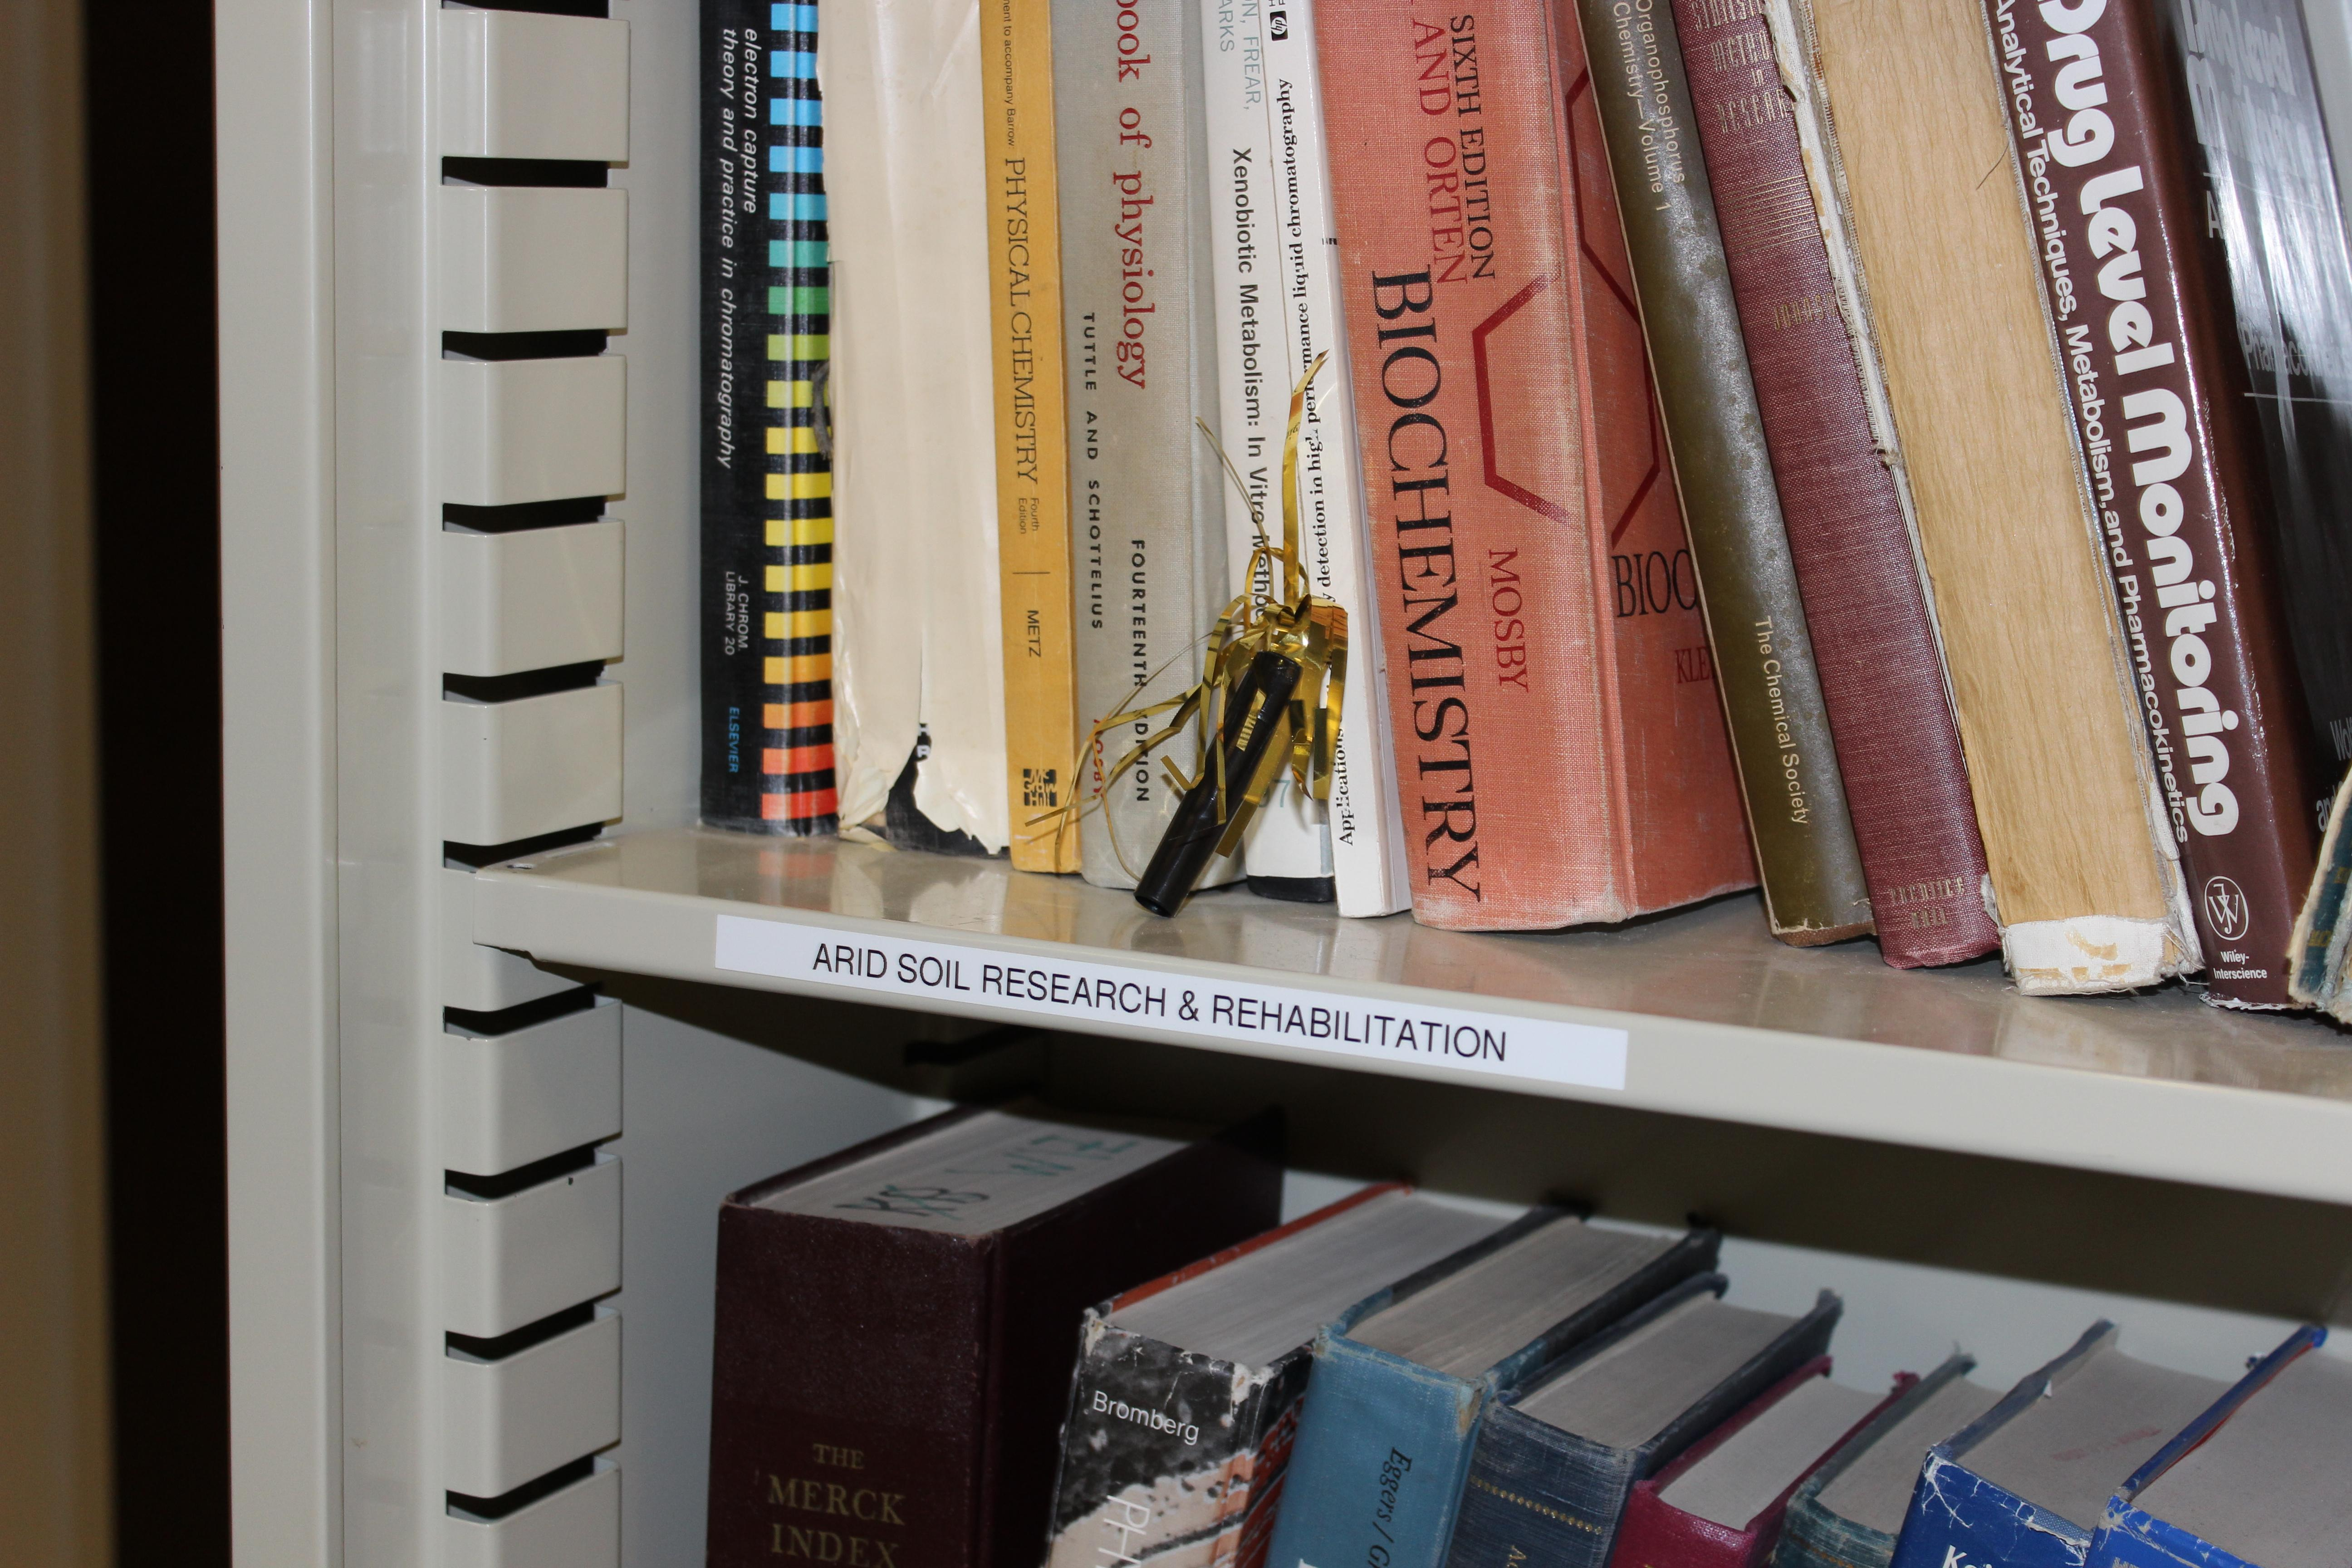partyFavor: (1001, 317, 1402, 952)
